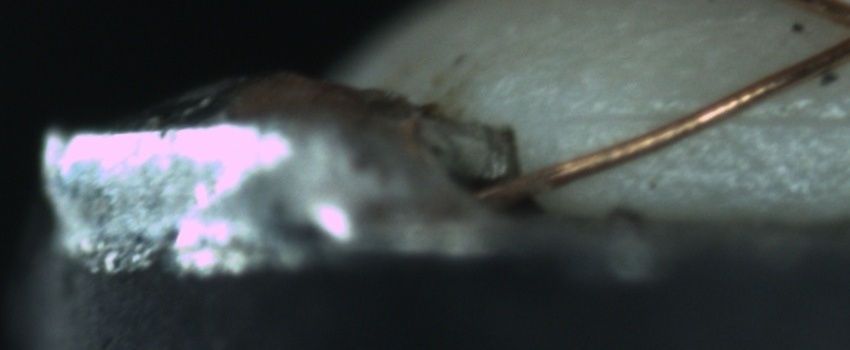DL: (556, 86, 850, 148)
